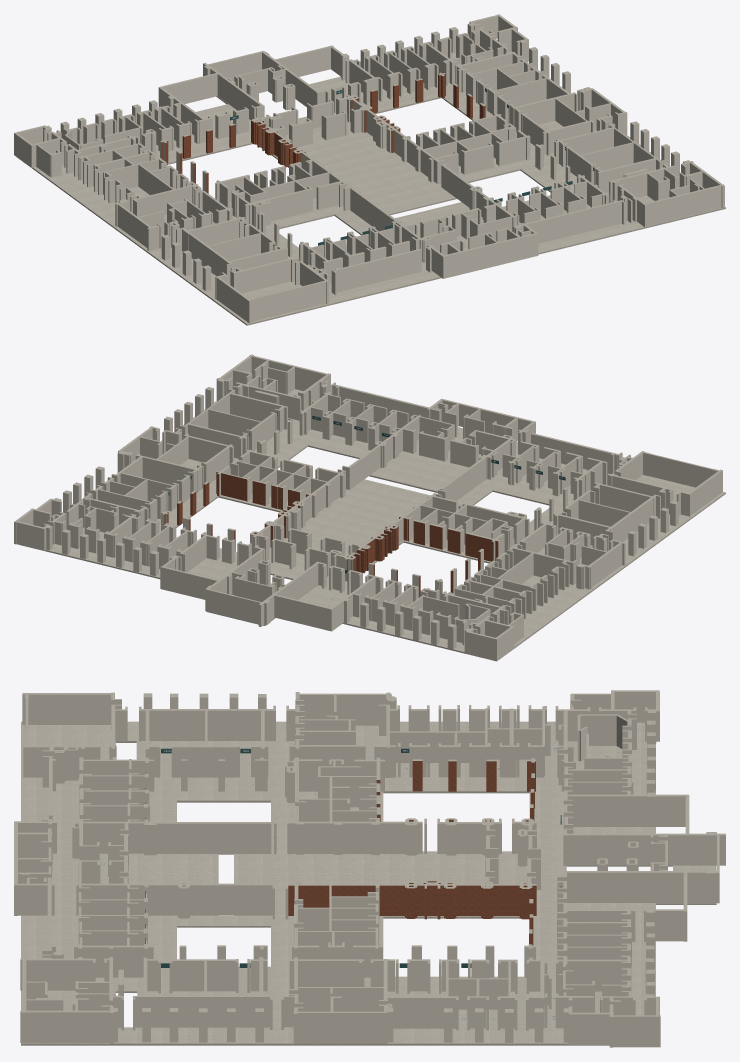
The model's file is hku-main-building-1f-v4.glb.
The picture shows the model from 3 angles, top to bottom: view 1: azimuth 30°, elevation 25°; view 2: azimuth 150°, elevation 25°; view 3: azimuth 270°, elevation 25°; orthographic projection. The views are drawn at different scales.
Visible parts, largest first — view 1: Wall_0085, Wall_0108, Wall_0053, Floor.098, Floor.099, Wall_0105, Wall_0287, Wall_0047, Wall_0057, Wall_0202, Wall_0298, Wall_0194 (+46 smaller); view 2: Floor.098, Wall_0194, Wall_0287, Wall_0002, Wall_0108, Wall_0057, Floor.008, Wall_0053, Wall_0193, Wall_0001, Floor.099, Wall_0202 (+48 smaller); view 3: Wall_0202, Wall_0057, Wall_0001, Wall_0176, Wall_0045, Wall_0041, Wall_0109, Wall_0005, Wall_0461, Wall_0228, Wall_0106, Wall_0054 (+80 smaller).
Part boxes in pixels (<box>): Wall_0085: <box>443,232,538,278</box>; Wall_0108: <box>513,200,621,243</box>; Wall_0053: <box>334,249,421,292</box>; Floor.098: <box>335,162,424,204</box>; Floor.099: <box>285,127,383,174</box>; Wall_0105: <box>643,184,724,225</box>; Wall_0287: <box>256,282,319,320</box>; Wall_0047: <box>233,256,299,293</box>; Wall_0057: <box>441,165,515,231</box>; Wall_0202: <box>346,95,438,182</box>; Wall_0298: <box>244,188,311,224</box>; Wall_0194: <box>159,73,217,103</box>; Floor.098: <box>329,493,416,534</box>; Wall_0194: <box>273,594,331,631</box>; Wall_0287: <box>649,453,712,487</box>; Wall_0002: <box>205,588,264,625</box>; Wall_0108: <box>333,384,440,422</box>; Wall_0057: <box>348,415,421,489</box>; Floor.008: <box>524,583,595,627</box>; Wall_0053: <box>531,433,617,474</box>; Wall_0193: <box>160,566,218,599</box>; Wall_0001: <box>258,562,318,626</box>; Floor.099: <box>295,523,375,568</box>; Wall_0202: <box>252,471,344,554</box>; Wall_0202: <box>288,884,536,915</box>; Wall_0057: <box>76,883,273,915</box>; Wall_0001: <box>567,833,725,865</box>; Wall_0176: <box>565,871,719,902</box>; Wall_0045: <box>141,709,273,740</box>; Wall_0041: <box>148,822,271,853</box>; Wall_0109: <box>135,996,269,1027</box>; Wall_0005: <box>566,794,688,826</box>; Wall_0461: <box>290,821,422,853</box>; Wall_0228: <box>293,1011,387,1043</box>; Wall_0106: <box>20,1010,109,1042</box>; Wall_0054: <box>22,693,114,724</box>.
Bounding box in the file's own units: 73.62 × 3.4 × 67.81.
6 materials, 2 textured.
